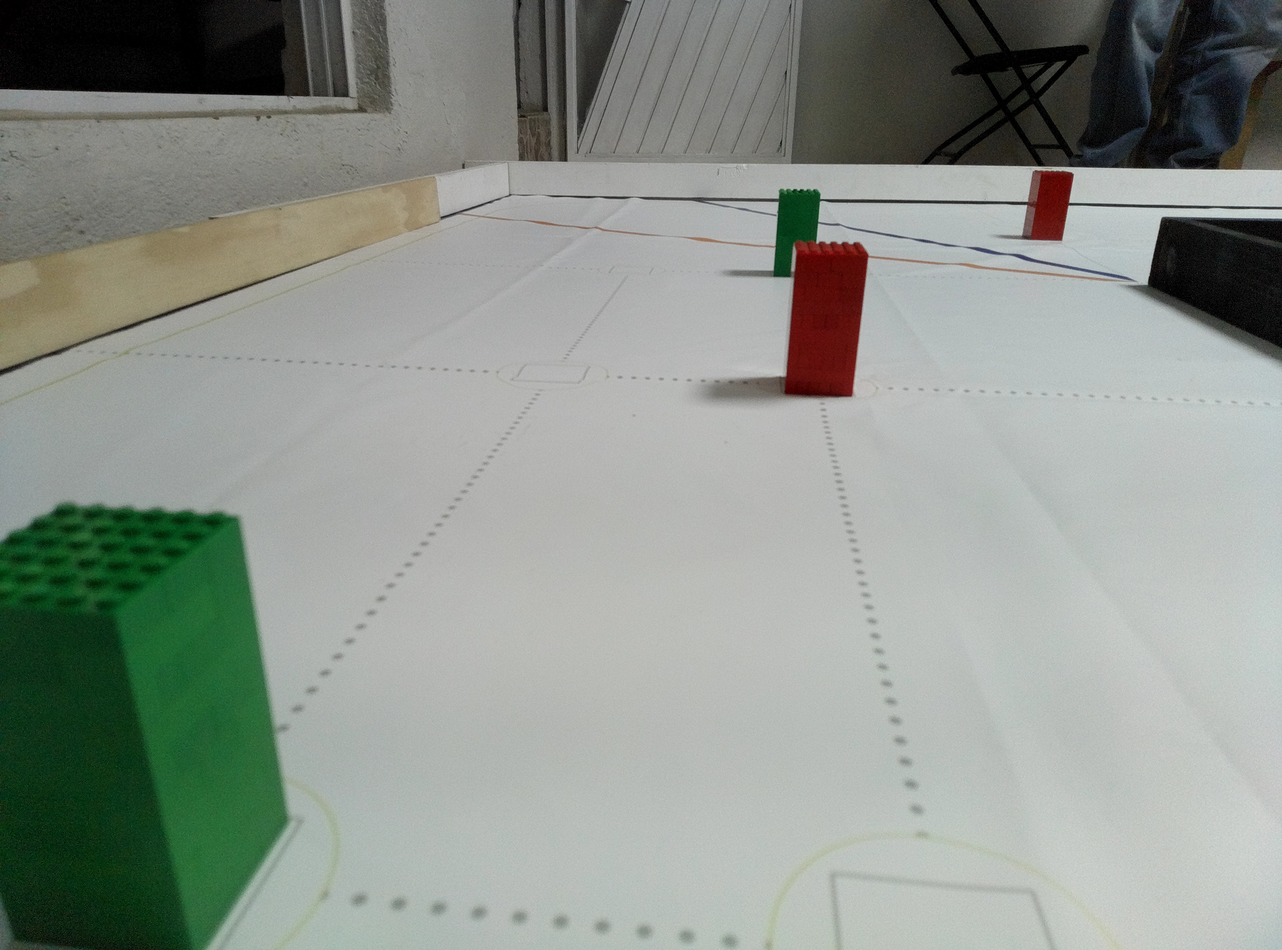greenbox: (0, 498, 294, 949), (773, 188, 821, 279)
redbox: (783, 240, 870, 398), (1022, 170, 1075, 241)
